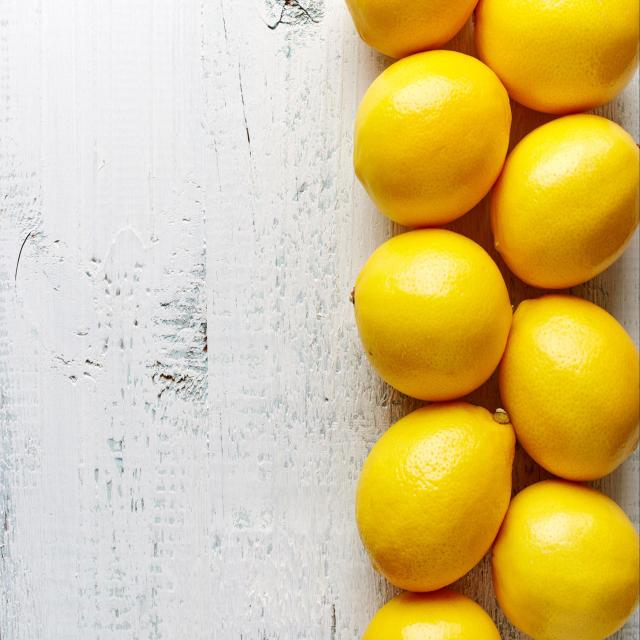lemon: (351, 396, 519, 600), (347, 224, 517, 407), (349, 47, 515, 230)
